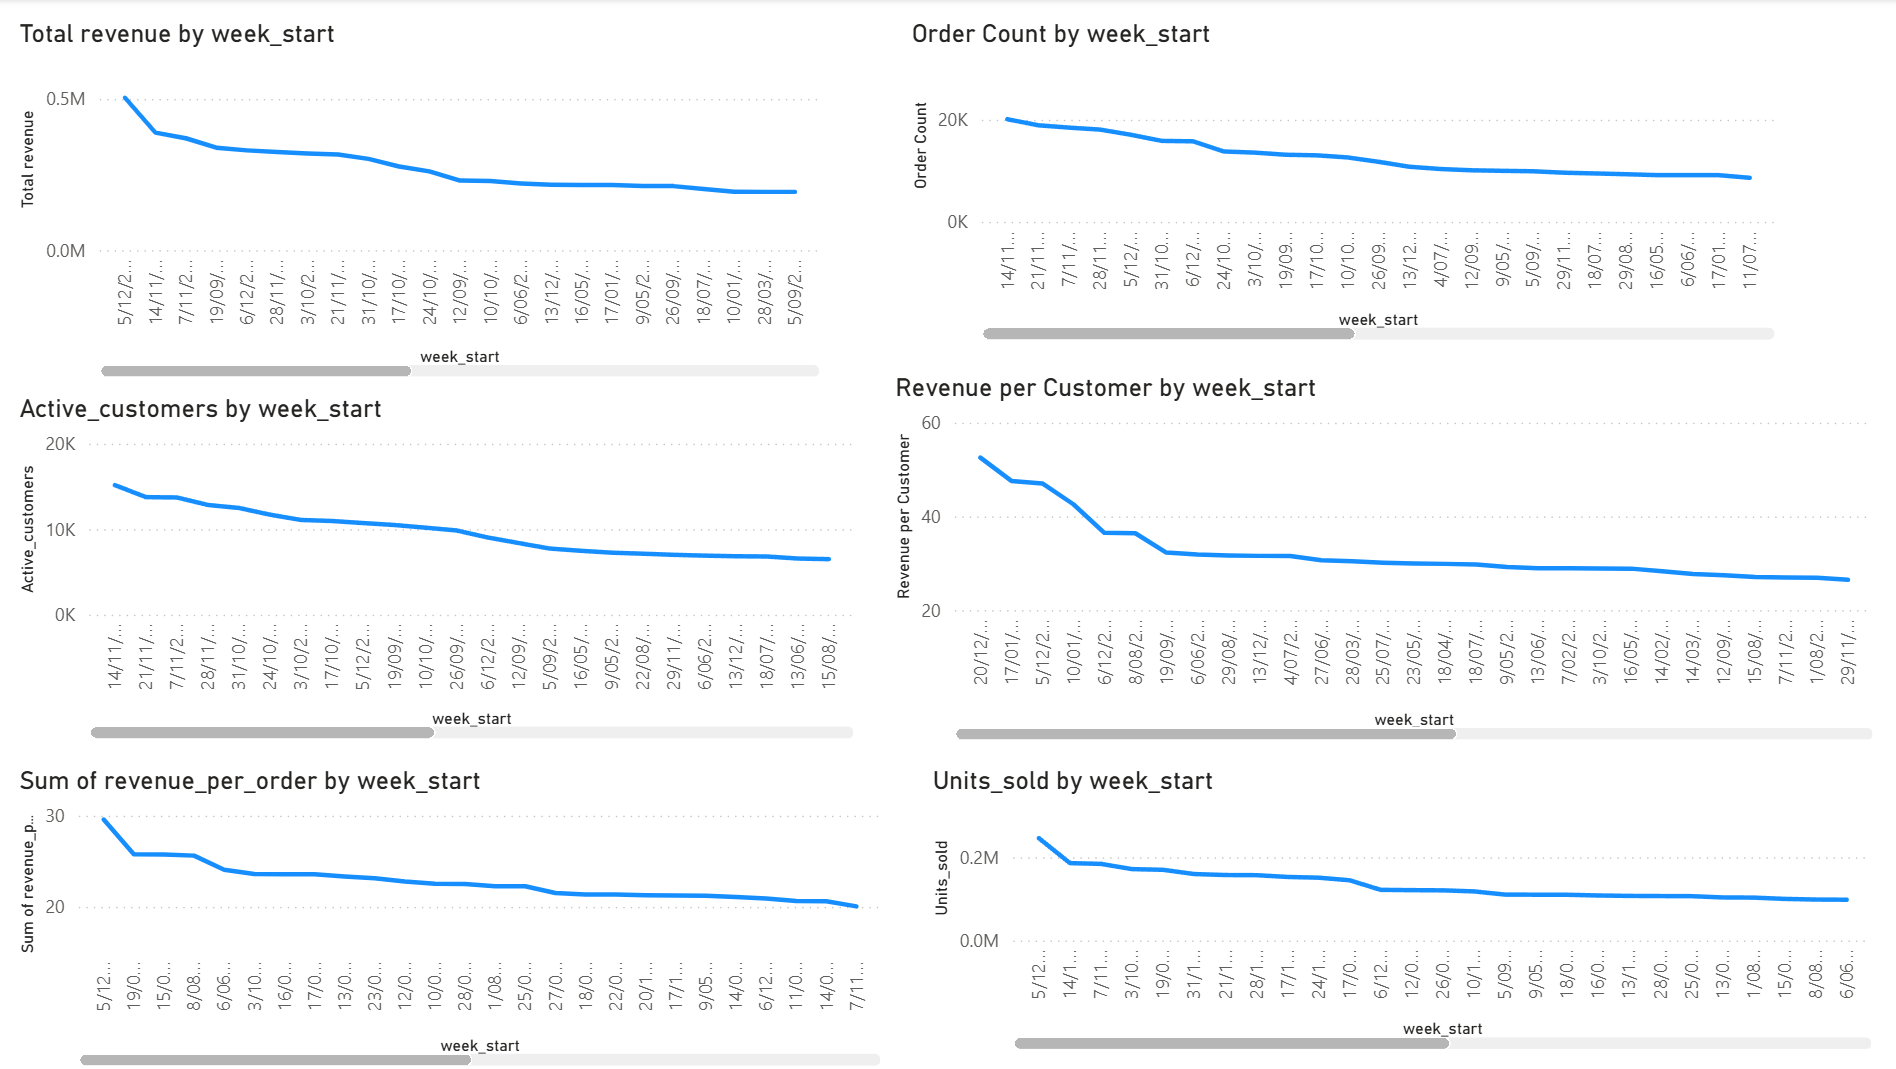

Layout of this report page (visuals, bound fields, positions):
{"tool":"powerbi","page":{"name":"KPI trends ","canvas":[1280,720],"ordinal":3},"visuals":[{"type":"lineChart","fields":{"Category":["mart_weekly_kpis.week_start"],"Y":["Sum(mart_weekly_kpis.total_revenue)"]},"box":[10,13,546,245],"z":0},{"type":"lineChart","fields":{"Category":["mart_weekly_kpis.week_start"],"Y":["Sum(mart_weekly_kpis.active_customers)"]},"box":[10,265,569,236],"z":1000},{"type":"lineChart","fields":{"Category":["mart_weekly_kpis.week_start"],"Y":["Sum(mart_weekly_kpis.revenue_per_order)"]},"box":[10,514,587,206],"z":2000},{"type":"lineChart","fields":{"Category":["mart_weekly_kpis.week_start"],"Y":["Sum(mart_weekly_kpis.order_count)"]},"box":[608,13,588,220],"z":3000},{"type":"lineChart","fields":{"Category":["mart_weekly_kpis.week_start"],"Y":["Sum(mart_weekly_kpis.revenue_per_customer)"]},"box":[597,250,665,251],"z":4000},{"type":"lineChart","fields":{"Category":["mart_weekly_kpis.week_start"],"Y":["Sum(mart_weekly_kpis.units_sold)"]},"box":[623,514,639,195],"z":5000}]}

Visuals, with their boxes in screenshot pixels (x1, y1, x2, y2), scaled from the page's 1280x720 canvas onto the 1896x1069 screenshot:
lineChart - mart_weekly_kpis.week_start x Sum(mart_weekly_kpis.total_revenue): [left=15, top=19, right=824, bottom=383]
lineChart - mart_weekly_kpis.week_start x Sum(mart_weekly_kpis.active_customers): [left=15, top=393, right=858, bottom=744]
lineChart - mart_weekly_kpis.week_start x Sum(mart_weekly_kpis.revenue_per_order): [left=15, top=763, right=884, bottom=1068]
lineChart - mart_weekly_kpis.week_start x Sum(mart_weekly_kpis.order_count): [left=901, top=19, right=1772, bottom=346]
lineChart - mart_weekly_kpis.week_start x Sum(mart_weekly_kpis.revenue_per_customer): [left=884, top=371, right=1869, bottom=744]
lineChart - mart_weekly_kpis.week_start x Sum(mart_weekly_kpis.units_sold): [left=923, top=763, right=1869, bottom=1053]
